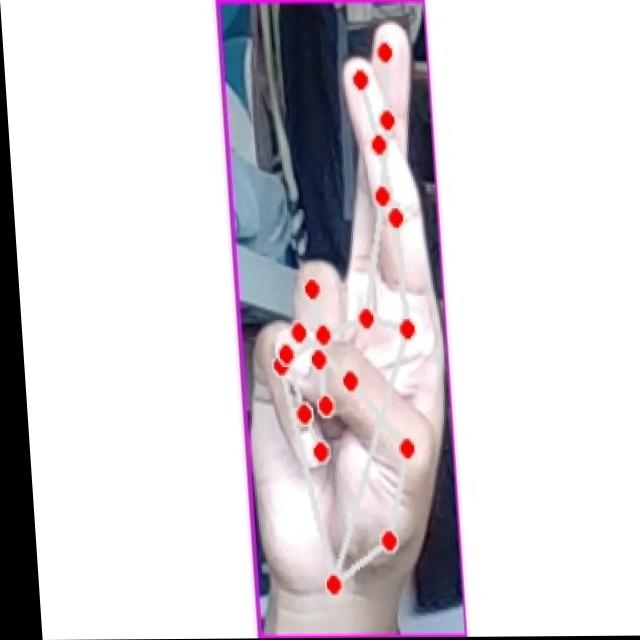R: (230, 14, 448, 620)
